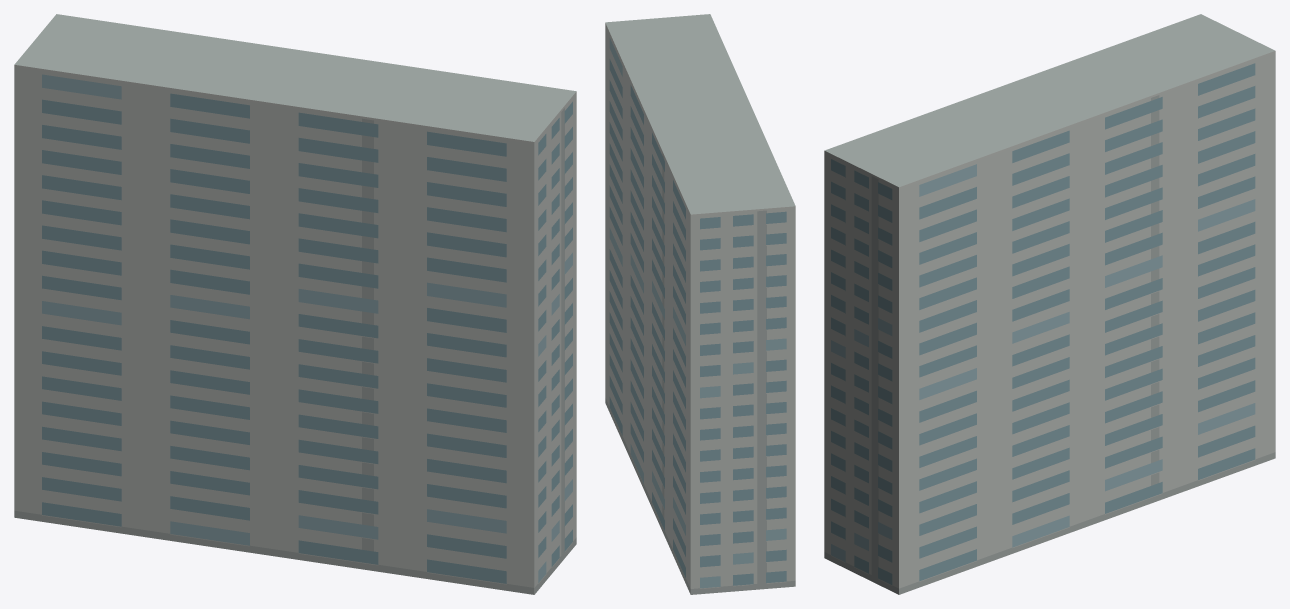
The model's file is residential-7deb5761-75fd-4fea-860c-4602ec168b92.glb.
3 renders of one model, left to right at view 1: azimuth 30°, elevation 25°; view 2: azimuth 150°, elevation 25°; view 3: azimuth 270°, elevation 25°, orthographic. The views are drawn at different scales.
Parts seen in each view (by area): view 1: residential-7deb5761-75fd-4fea-860c-4602ec168b92.tmp; view 2: residential-7deb5761-75fd-4fea-860c-4602ec168b92.tmp; view 3: residential-7deb5761-75fd-4fea-860c-4602ec168b92.tmp.
Part boxes in pixels (x1,y1,x2,y2): residential-7deb5761-75fd-4fea-860c-4602ec168b92.tmp: (14,14,576,594); residential-7deb5761-75fd-4fea-860c-4602ec168b92.tmp: (605,14,795,594); residential-7deb5761-75fd-4fea-860c-4602ec168b92.tmp: (824,14,1275,594).
Bounding box in the file's own units: 43.78 × 48 × 48.15.
